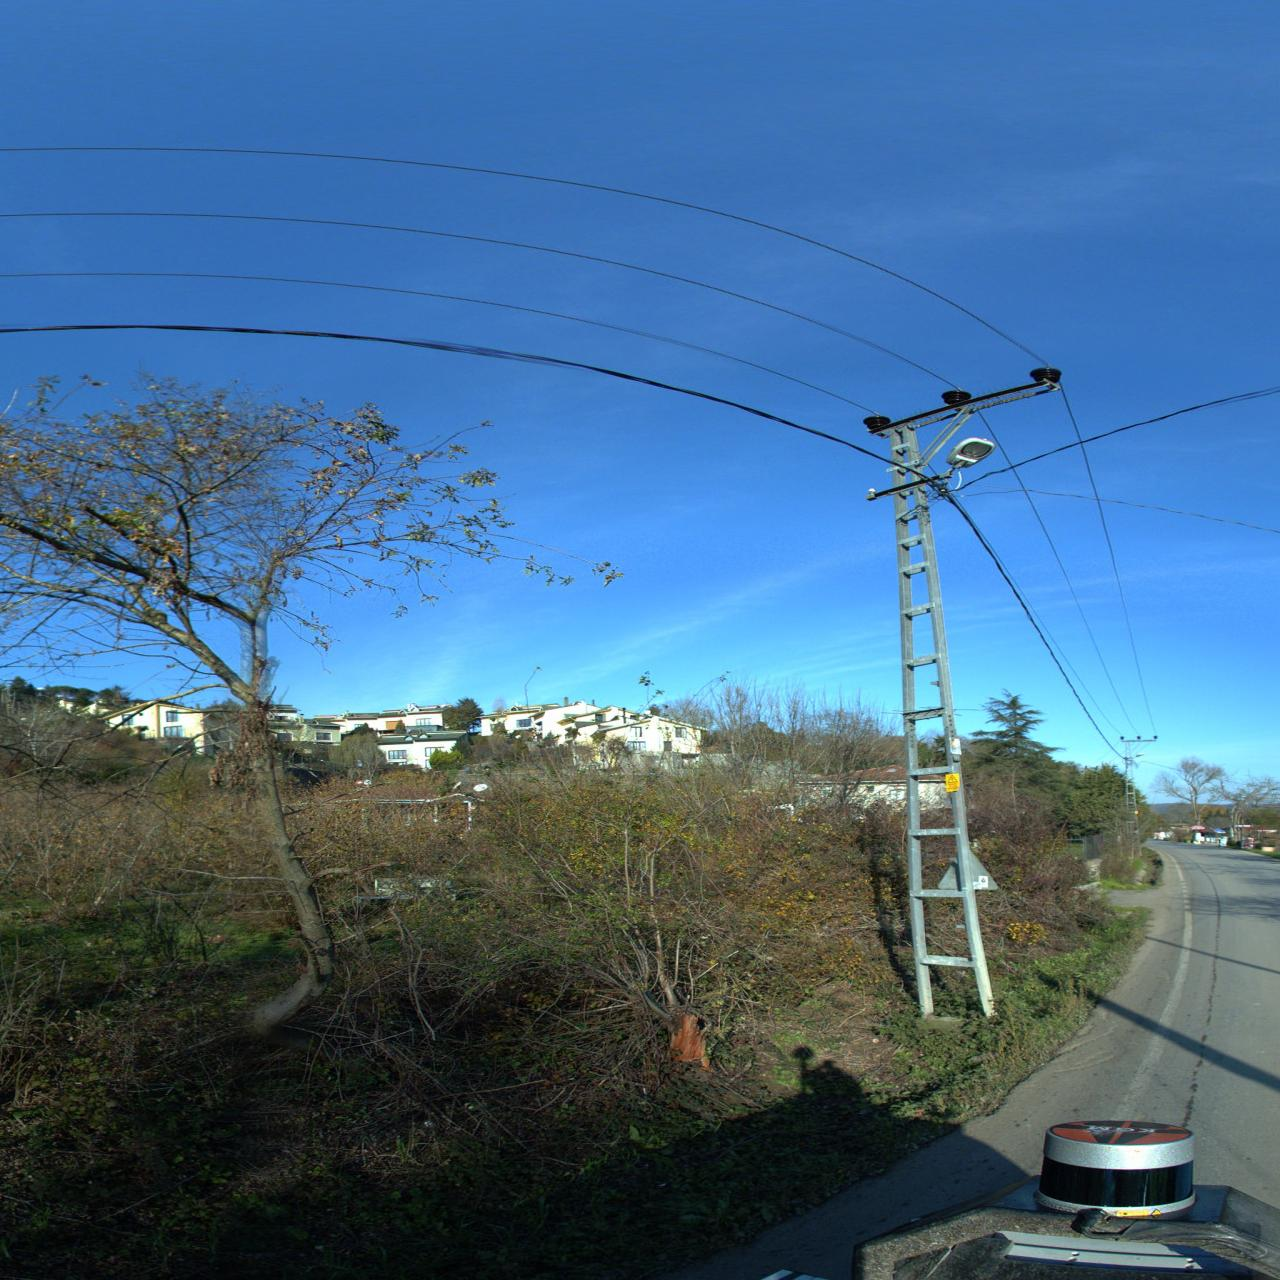Utility Pole Information Plate: (945, 772, 960, 791), (949, 737, 962, 755), (1133, 810, 1138, 815)
